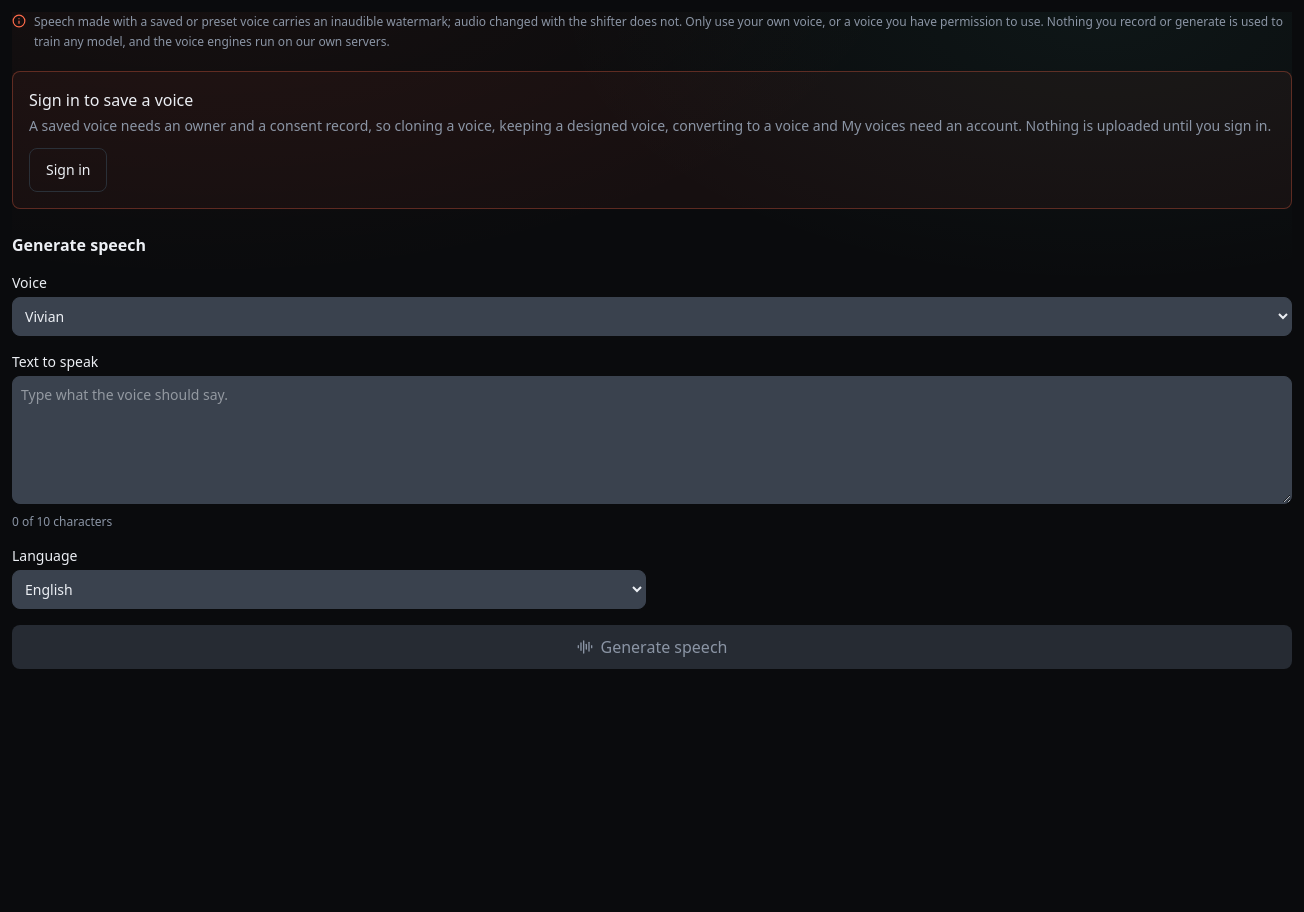
it: capabilities states (acceptance 8) › the speak counter follows the tier cap and blocks over-long text
Type "twelve chars" into the text box labelled "Text to speak". click: [652, 440]
box: top-left (12, 376), bottom-right (1292, 504)
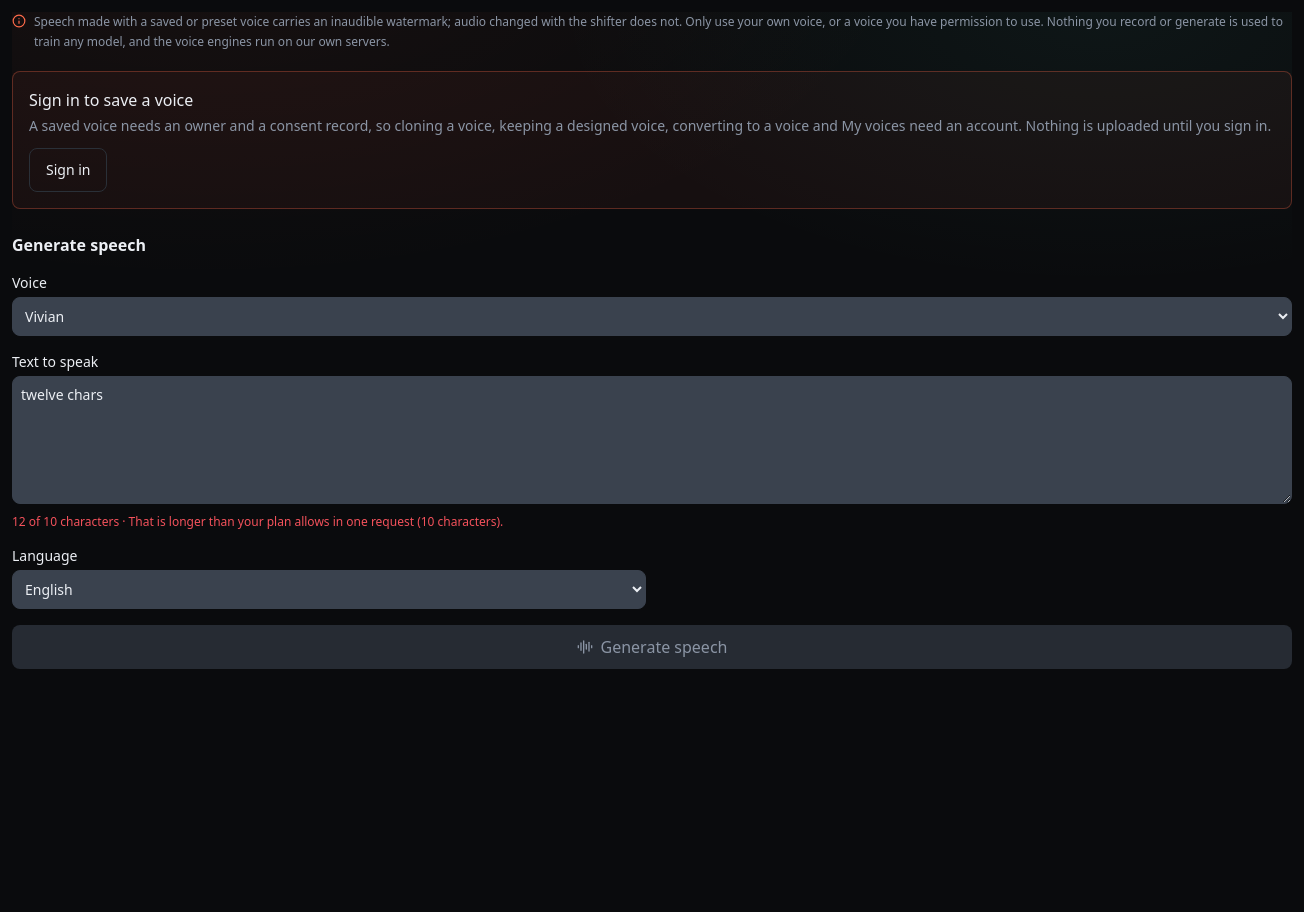
Expected: the button "Generate speech" is disabled, top-left (12, 625), bottom-right (1292, 669)
Expected: the text with test id "speak-counter" shows "12 of 10 characters", top-left (12, 513), bottom-right (119, 530)
